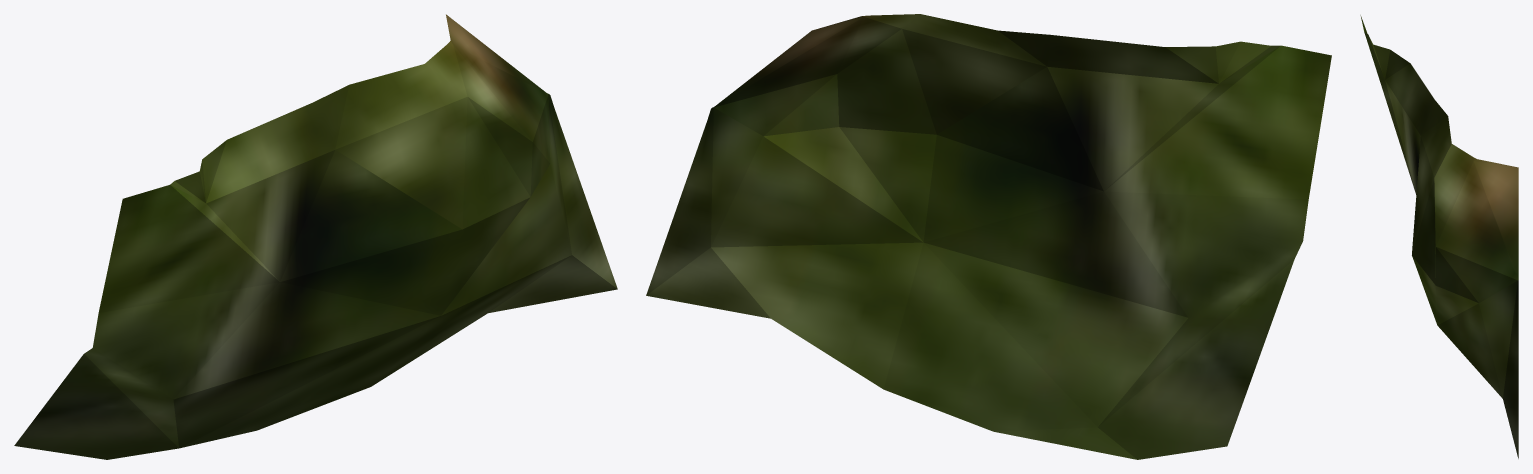
3 views of the same model, side by side, from view 1: azimuth 30°, elevation 25°; view 2: azimuth 150°, elevation 25°; view 3: azimuth 270°, elevation 25° (orthographic). The views are drawn at different scales.
Size of the model in its own units: 0.5091 by 0.2986 by 0.1586.
Materials: 1 (1 with a texture image).
